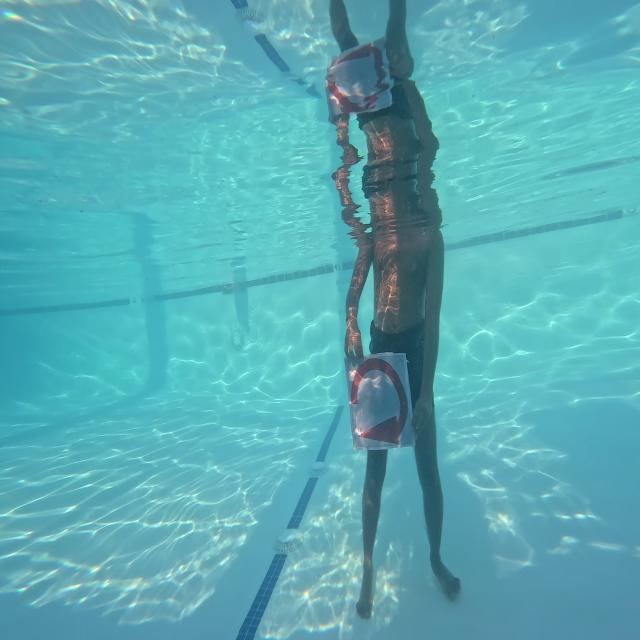red_side: (347, 355, 414, 450)
